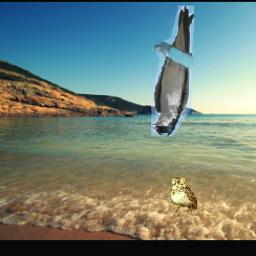Sparrow: (170, 177, 198, 212)
Swallow: (152, 6, 195, 136)
